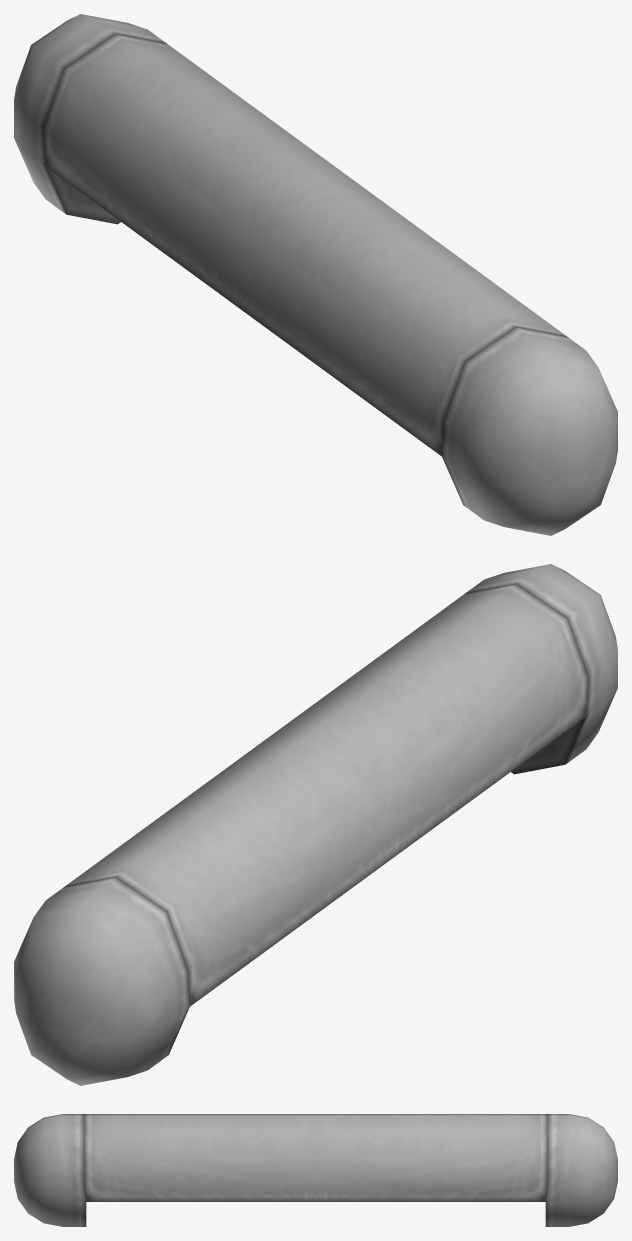
The model's file is blue_steel_landing_skid_srf_2_base.obj.
The picture shows the model from 3 angles, top to bottom: view 1: azimuth 30°, elevation 25°; view 2: azimuth 150°, elevation 25°; view 3: azimuth 270°, elevation 25°; orthographic projection. The views are drawn at different scales.
Visible parts, largest first — view 1: mesh1; view 2: mesh1; view 3: mesh1.
Boxes of the visible parts, <box> form: mesh1: <box>14,14,617,535</box>; mesh1: <box>14,564,617,1085</box>; mesh1: <box>14,1114,617,1226</box>.
Size of the model in its own units: 0.2 by 0.25 by 1.25.
